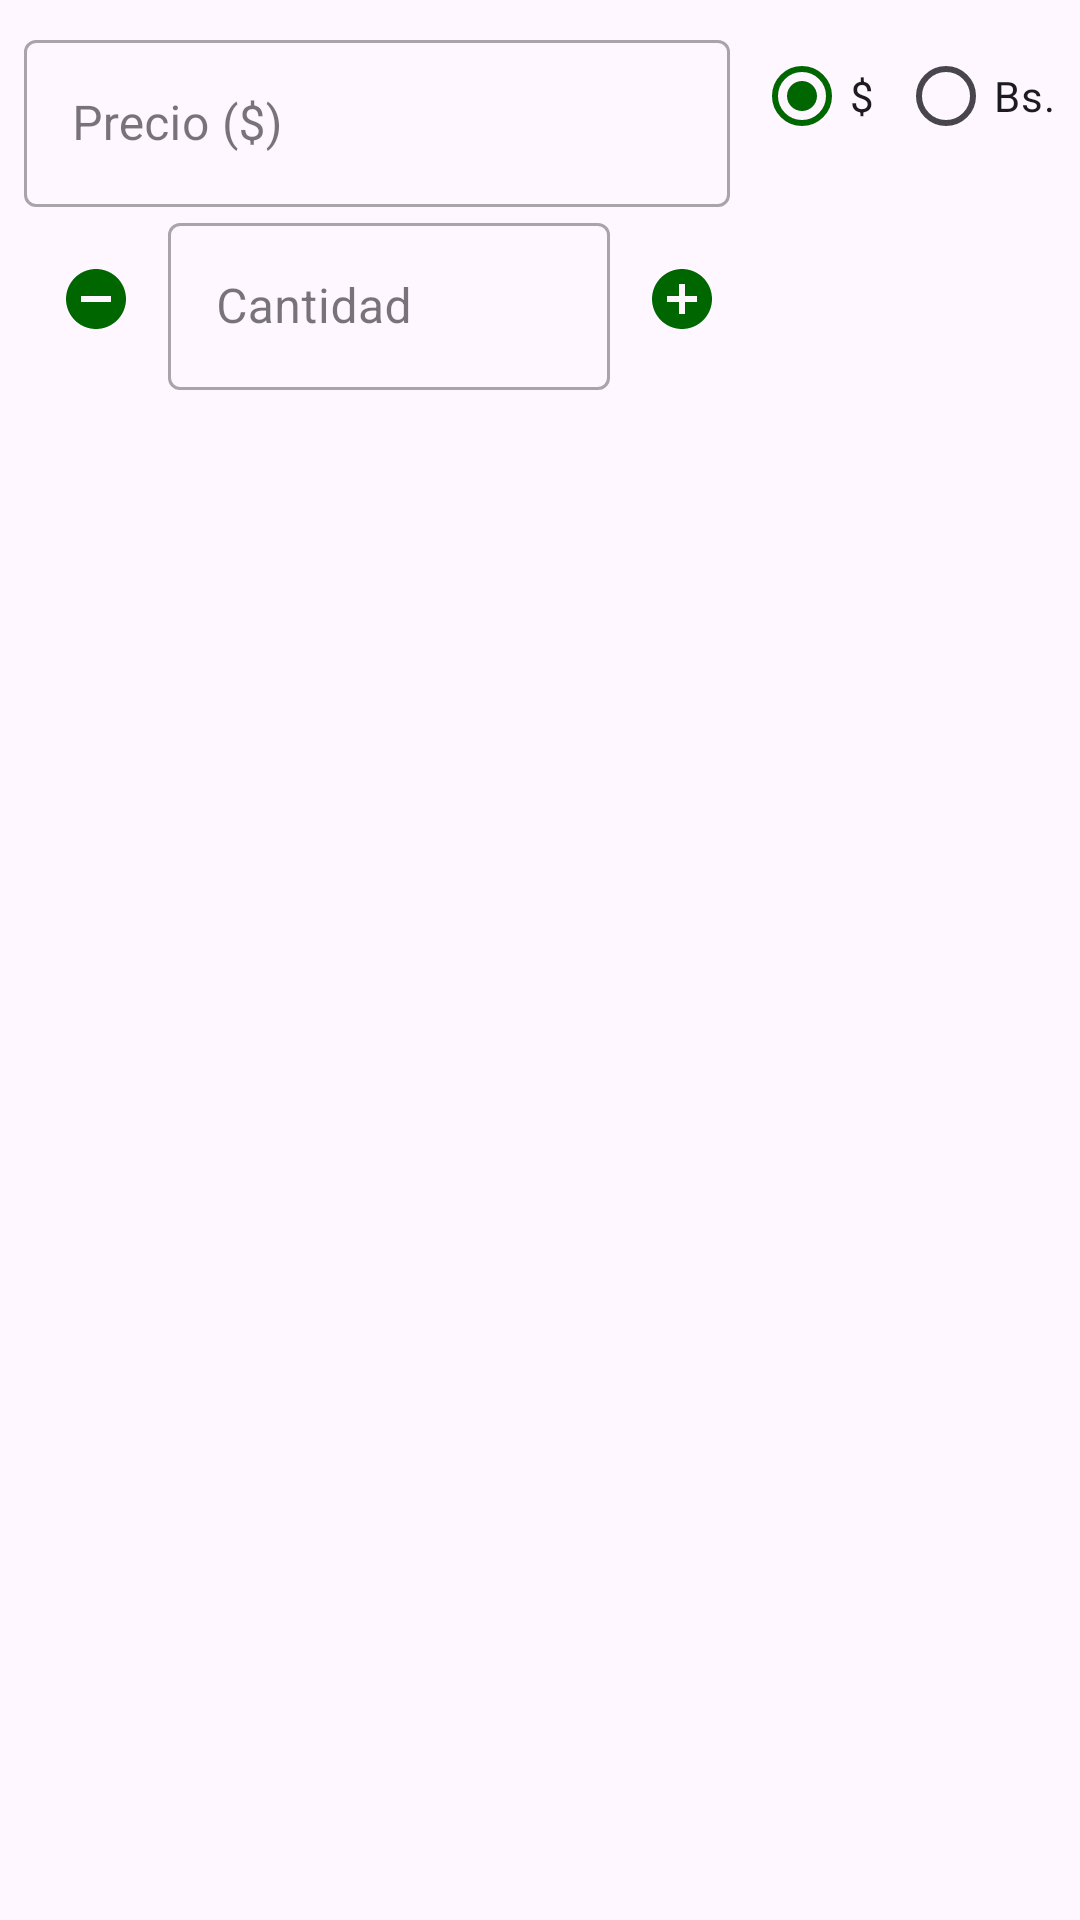

Named icons in this screenshot (1080*1920) and their centers, point (x, y):
add: point (682, 299)
neg: point (96, 299)
